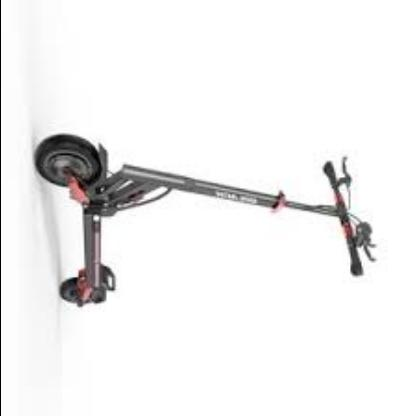bike: (34, 133, 380, 309)
